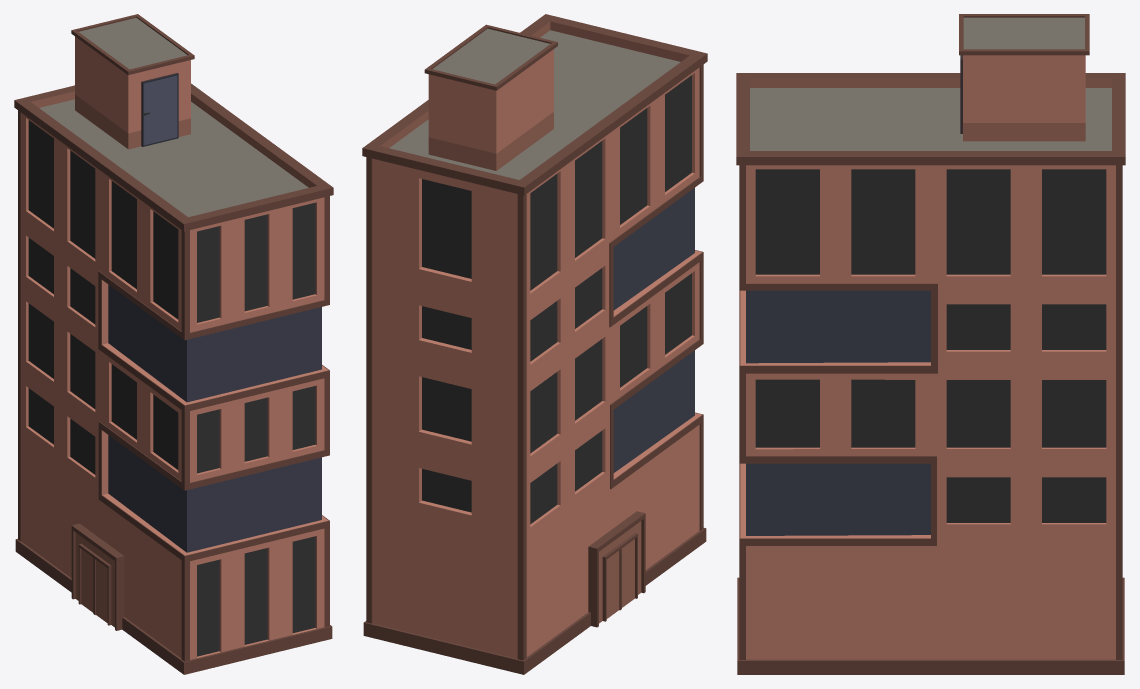
The model's file is building05_color01.fbx.
The picture shows the model from 3 angles, left to right: view 1: azimuth 30°, elevation 25°; view 2: azimuth 150°, elevation 25°; view 3: azimuth 270°, elevation 25°; orthographic projection. The views are drawn at different scales.
Parts seen in each view (by area): view 1: building05_color01; view 2: building05_color01; view 3: building05_color01.
Part boxes in pixels (bbox=[...]): building05_color01: bbox=[14, 14, 333, 674]; building05_color01: bbox=[362, 14, 707, 674]; building05_color01: bbox=[736, 14, 1125, 674].
Bounding box in the file's own units: 644 × 2073 × 1218.
